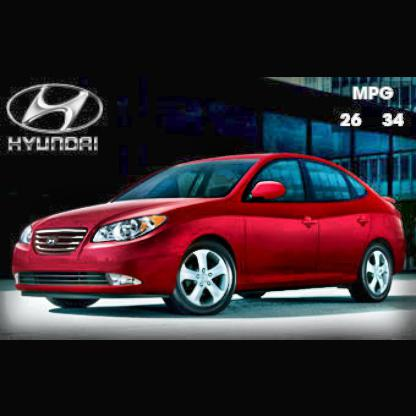Hyundai Elantra Sedan 2007: (12, 152, 409, 320)
